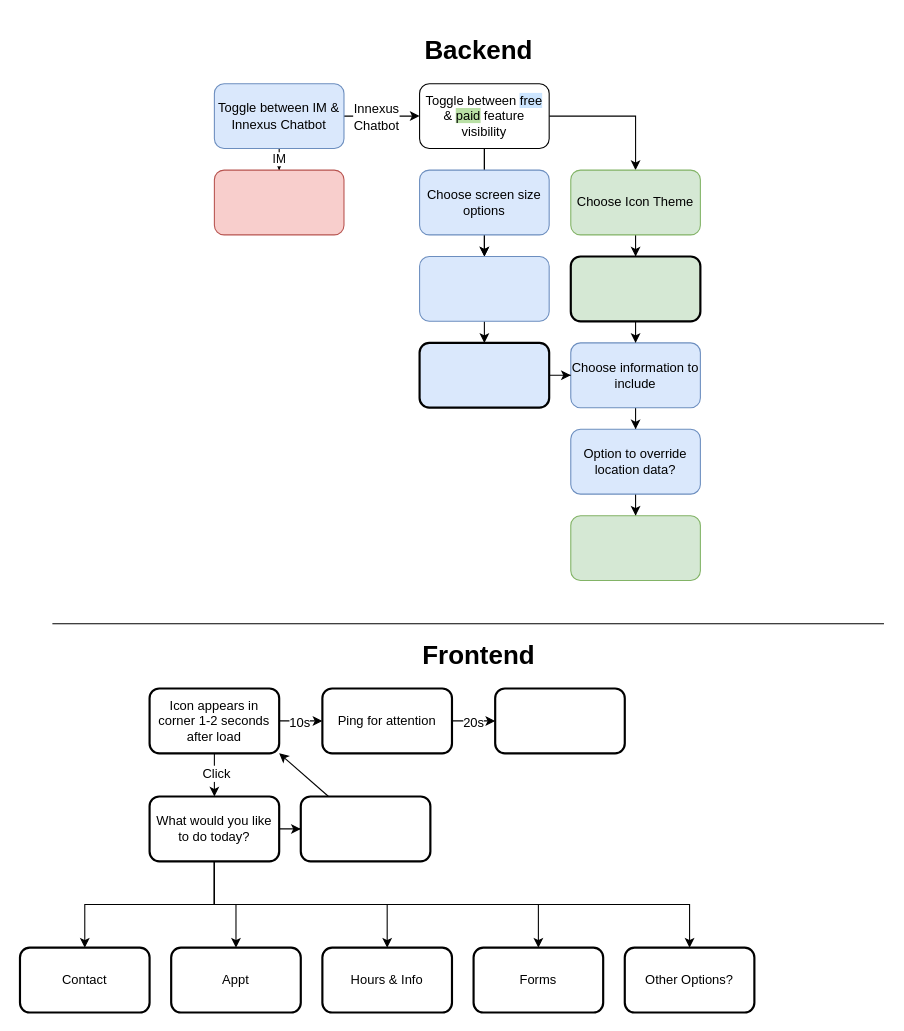
This 904x1031 diagram has some shape labels left out. Each missing label, with the box of its shape:
Additional Options…: (570, 515, 700, 580)
Choose color scheme - Full: (569, 255, 701, 322)
Choose color scheme - Semi: (418, 341, 550, 408)
Choose display location: (418, 255, 549, 321)
Close Button - Disables Attention Animations: (299, 795, 431, 862)
Text bubble for attention: (494, 687, 625, 754)
Use IM Options: (213, 169, 344, 235)
